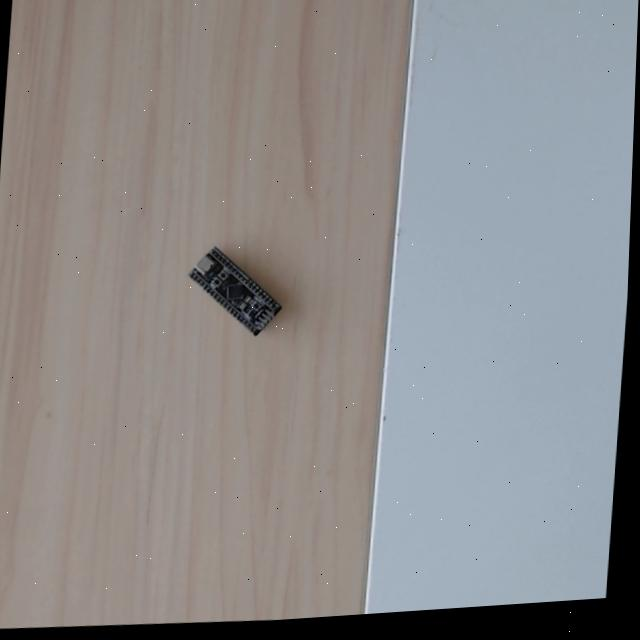STM32-Blackpill: (182, 242, 282, 338)
